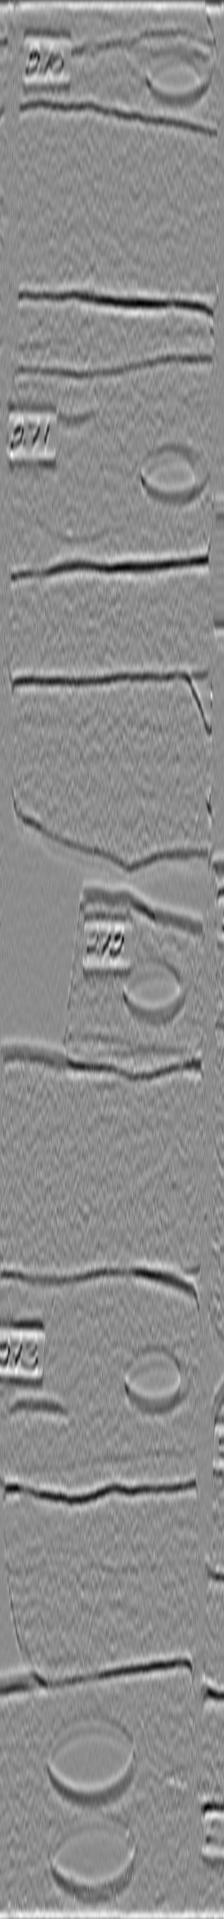hplug: (132, 434, 211, 507), (116, 952, 189, 1030), (118, 1343, 191, 1418), (140, 38, 214, 111)
scal: (42, 1713, 142, 1811), (45, 1813, 140, 1906)
vplug: (6, 895, 91, 1072), (38, 401, 110, 575), (6, 1272, 81, 1421), (26, 1, 77, 35)
